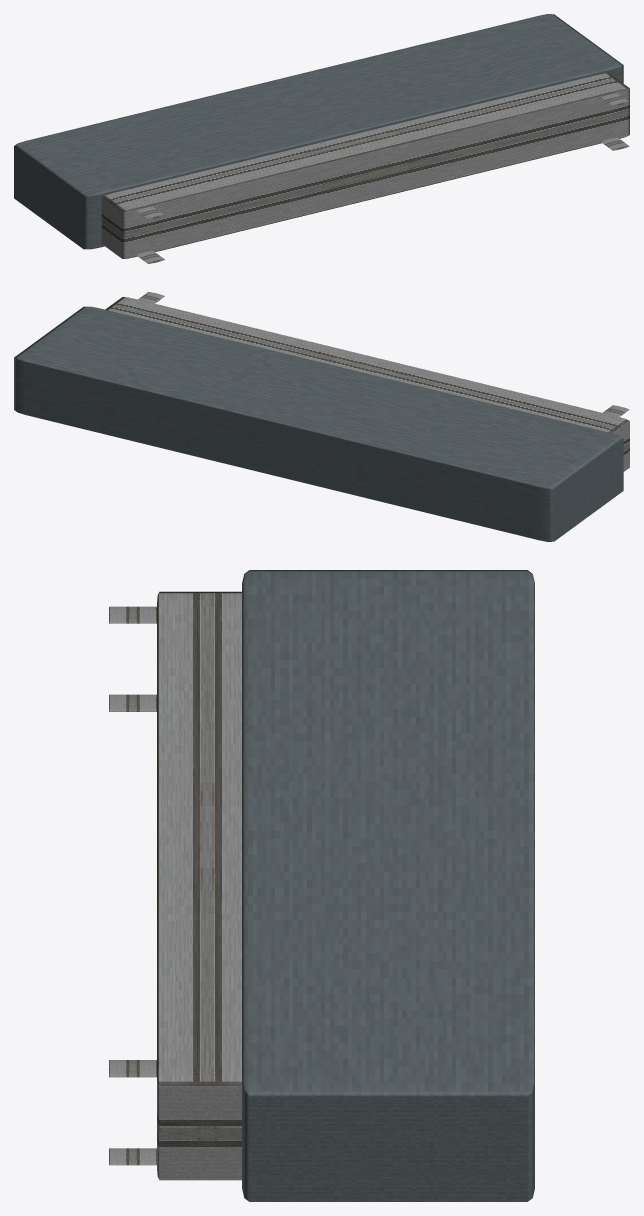
Rendered from clipboard-clip.glb.
The picture shows the model from 3 angles, top to bottom: view 1: azimuth 30°, elevation 25°; view 2: azimuth 150°, elevation 25°; view 3: azimuth 270°, elevation 25°; orthographic projection. The views are drawn at different scales.
Parts seen in each view (by area): view 1: back, face; view 2: back, face; view 3: back, face, pin (×4).
Part boxes in pixels (x1,y1,x2,y2): back: [14, 14, 623, 249]; face: [101, 73, 629, 258]; back: [14, 306, 623, 541]; face: [105, 297, 629, 471]; back: [242, 570, 534, 1201]; face: [157, 591, 241, 1180]; pin (×4): [109, 606, 156, 1165].
Bounding box in the file's own units: 0.082 × 0.008 × 0.028.
Materials: 2 (2 with a texture image).
